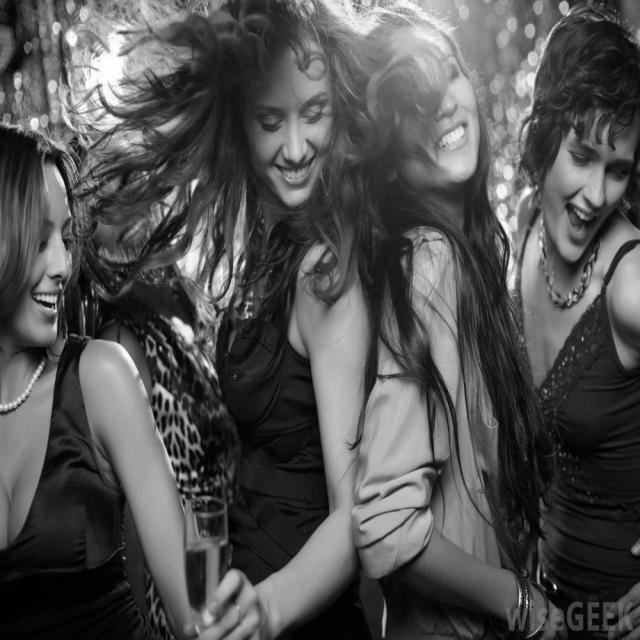person: (2, 105, 230, 640), (196, 0, 350, 640), (496, 25, 640, 640), (370, 11, 491, 628)
